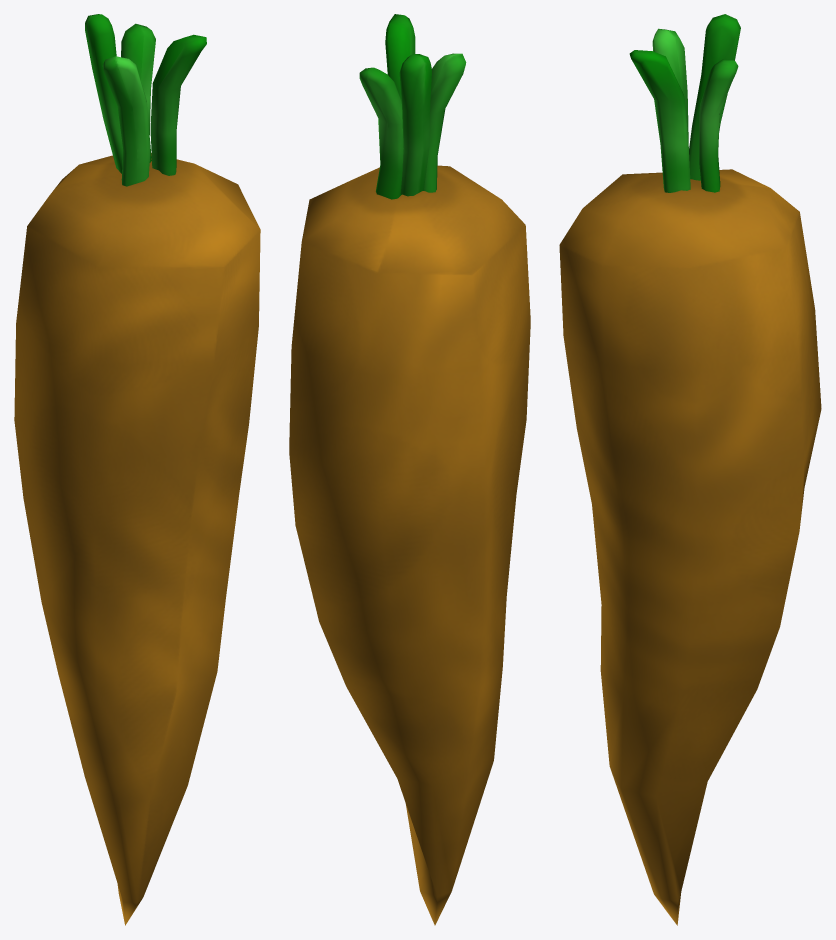
File: CarrotWhole.fbx
3 renders of one model, left to right at view 1: azimuth 30°, elevation 25°; view 2: azimuth 150°, elevation 25°; view 3: azimuth 270°, elevation 25°, orthographic. The views are drawn at different scales.
Parts seen in each view (by area): view 1: CarrotWhole; view 2: CarrotWhole; view 3: CarrotWhole.
Part boxes in pixels (bbox=[...]): CarrotWhole: bbox=[14, 14, 260, 925]; CarrotWhole: bbox=[289, 14, 530, 925]; CarrotWhole: bbox=[559, 14, 821, 925].
Bounding box in the file's own units: 171 × 715 × 187.
